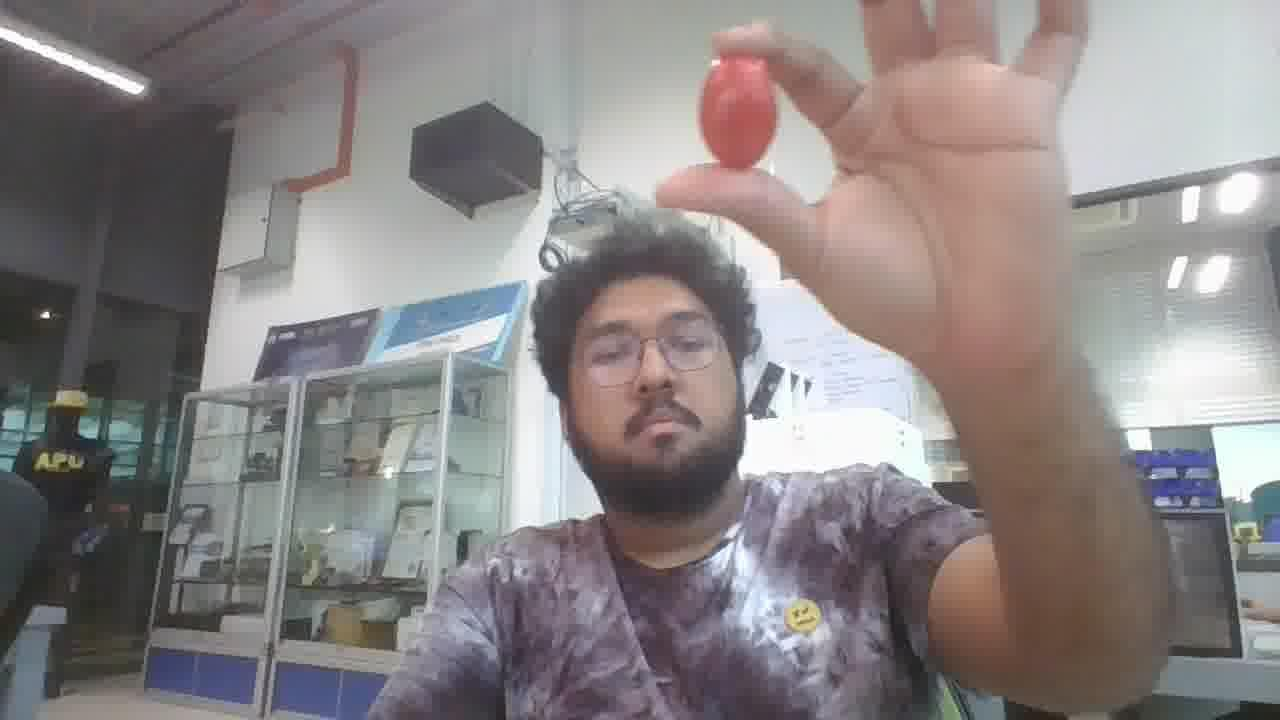red_cherry_tomato: (698, 54, 777, 169)
